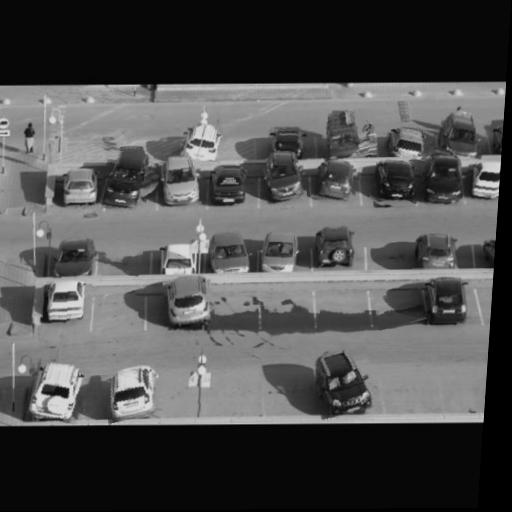busy: (310, 347, 377, 418), (25, 361, 91, 423), (100, 365, 163, 422), (99, 151, 154, 212), (161, 276, 217, 329), (434, 110, 491, 160), (318, 109, 372, 161), (423, 278, 474, 326), (422, 157, 469, 207), (40, 282, 94, 325), (157, 159, 204, 208), (371, 159, 423, 203), (312, 160, 362, 205), (55, 168, 107, 209), (51, 239, 103, 278), (313, 226, 359, 269), (181, 123, 229, 162), (262, 164, 308, 204), (383, 124, 434, 160), (412, 233, 461, 270), (259, 233, 304, 272), (206, 166, 251, 205), (207, 234, 253, 272), (265, 127, 310, 163), (463, 161, 501, 200), (157, 243, 200, 274), (479, 231, 496, 266), (490, 121, 504, 155)
free: (374, 289, 427, 329), (258, 375, 305, 411), (263, 295, 311, 327), (390, 380, 437, 411), (162, 379, 203, 413), (319, 295, 367, 324), (97, 292, 139, 325), (219, 376, 261, 409), (99, 247, 143, 276), (444, 381, 485, 411), (215, 298, 255, 324), (371, 243, 407, 265)
